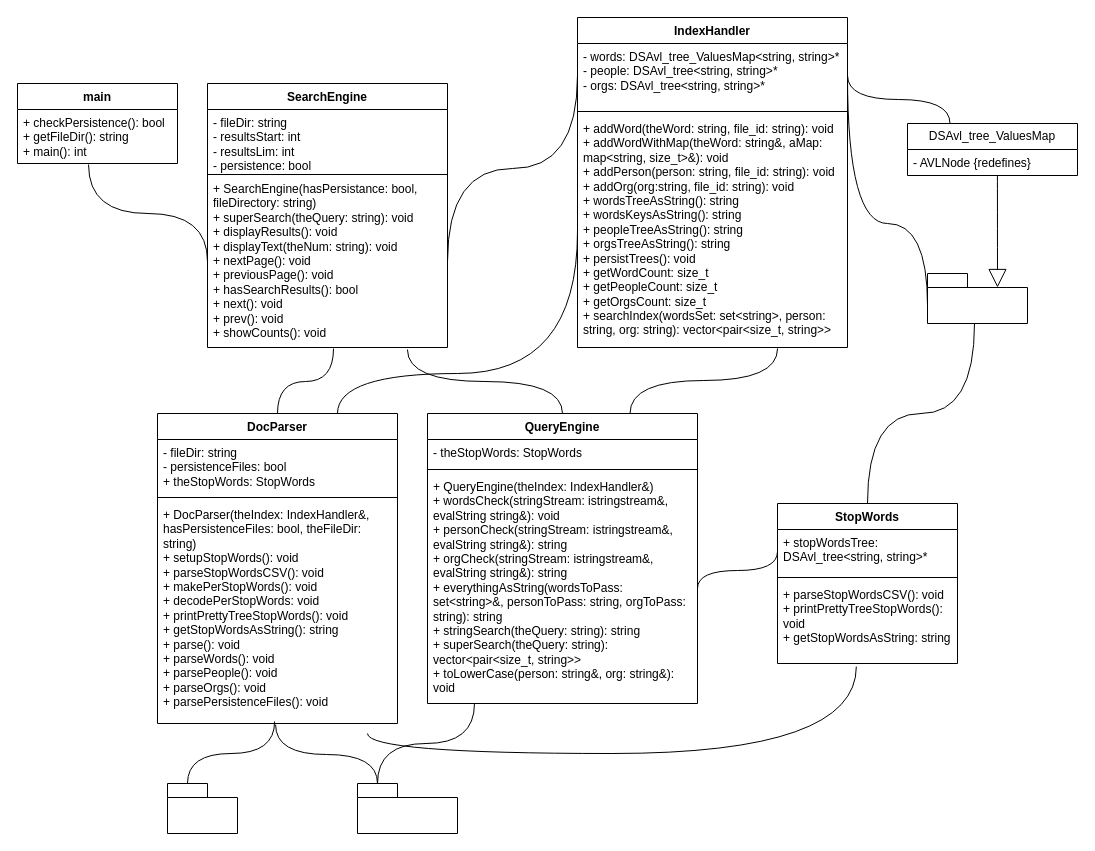
The diagram is 1095 pixels wide and 851 high, and some of its shapes have lost their labels. Each missing label, with the centre of its shape:
"DSAvl_Tree" belongs at pixel 977 298.
"porter2stemmer" belongs at pixel 407 808.
"rapidjson" belongs at pixel 202 808.
